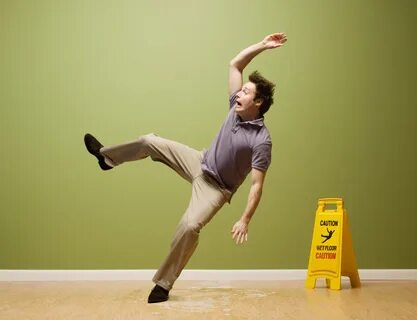awake: (82, 32, 289, 304)
